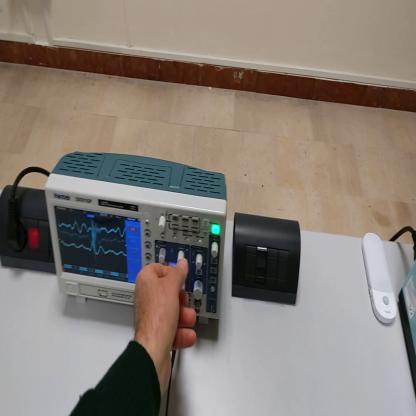hand: (132, 258, 196, 384)
oscilloscope: (47, 151, 230, 326)
socket: (1, 184, 56, 275)
welder station: (398, 261, 416, 407)
